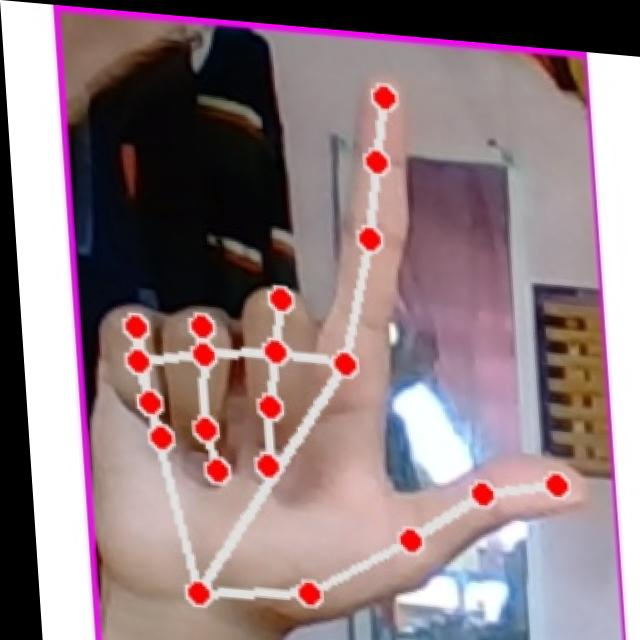L: (68, 37, 595, 640)
